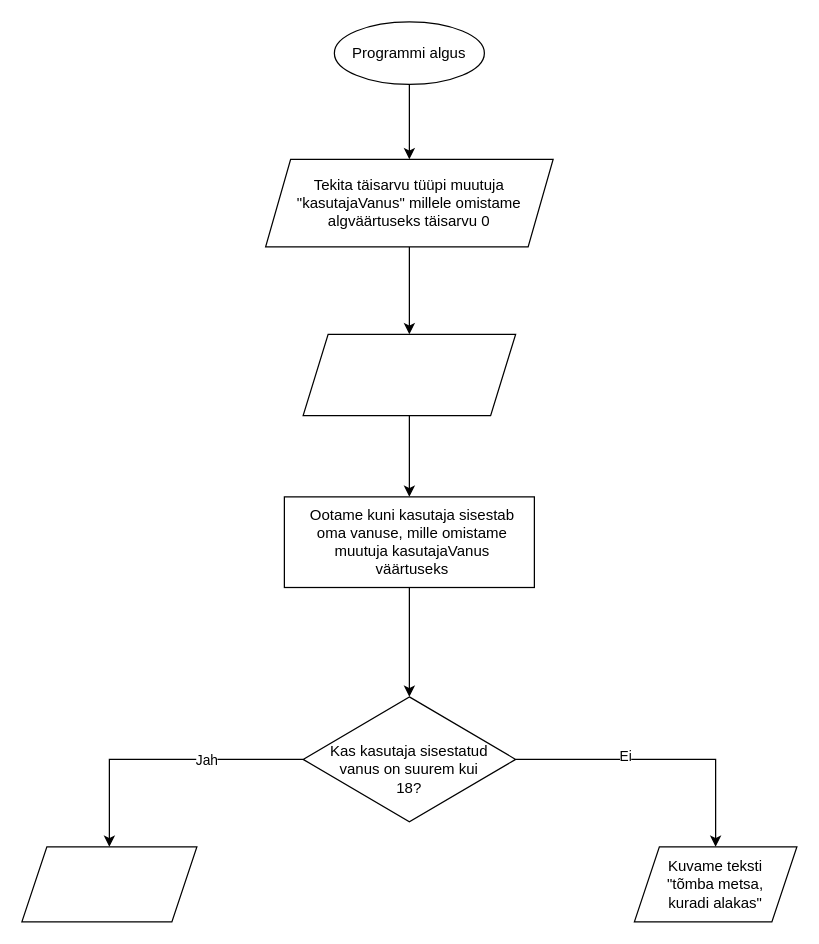
Image size: 819x944. Some labels were removed from this diagram. The shapes that lost their labels are listed below. From the top down, each one's box as (x1, y1, x2, y2) in pixels, then its label:
(302, 333, 516, 416): Kuva kasutajale tekst "Kui vana sa oled?"
(21, 846, 197, 922): Kuvame teksti "Tere, siin on sinu mojito🍸"
